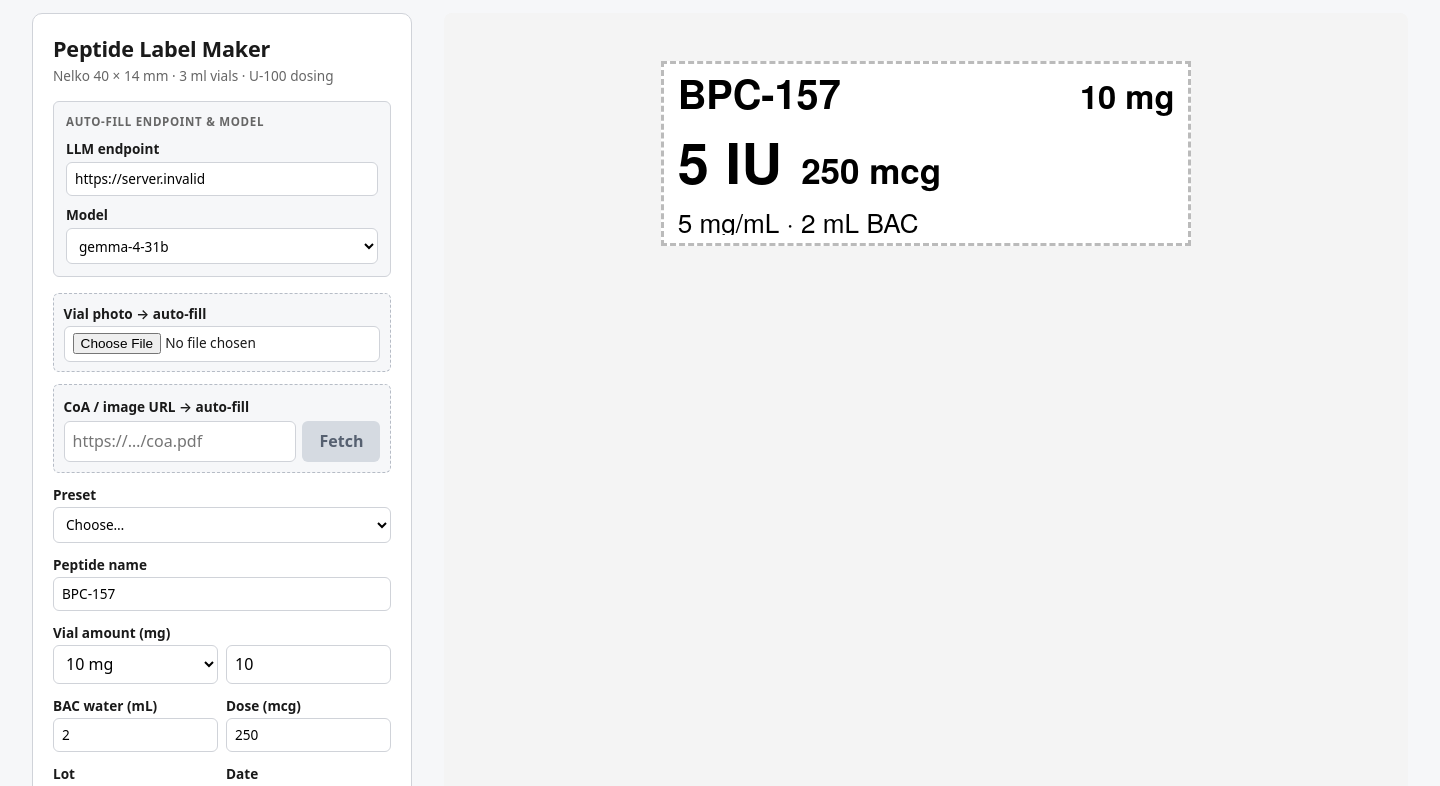
Test: App › blocks printing and surfaces an error when the name is empty
This screenshot has width=1440, height=786.
Clear the field labelled "Peptide name": (222, 594) [53,577,391,611]
(page scrolled)
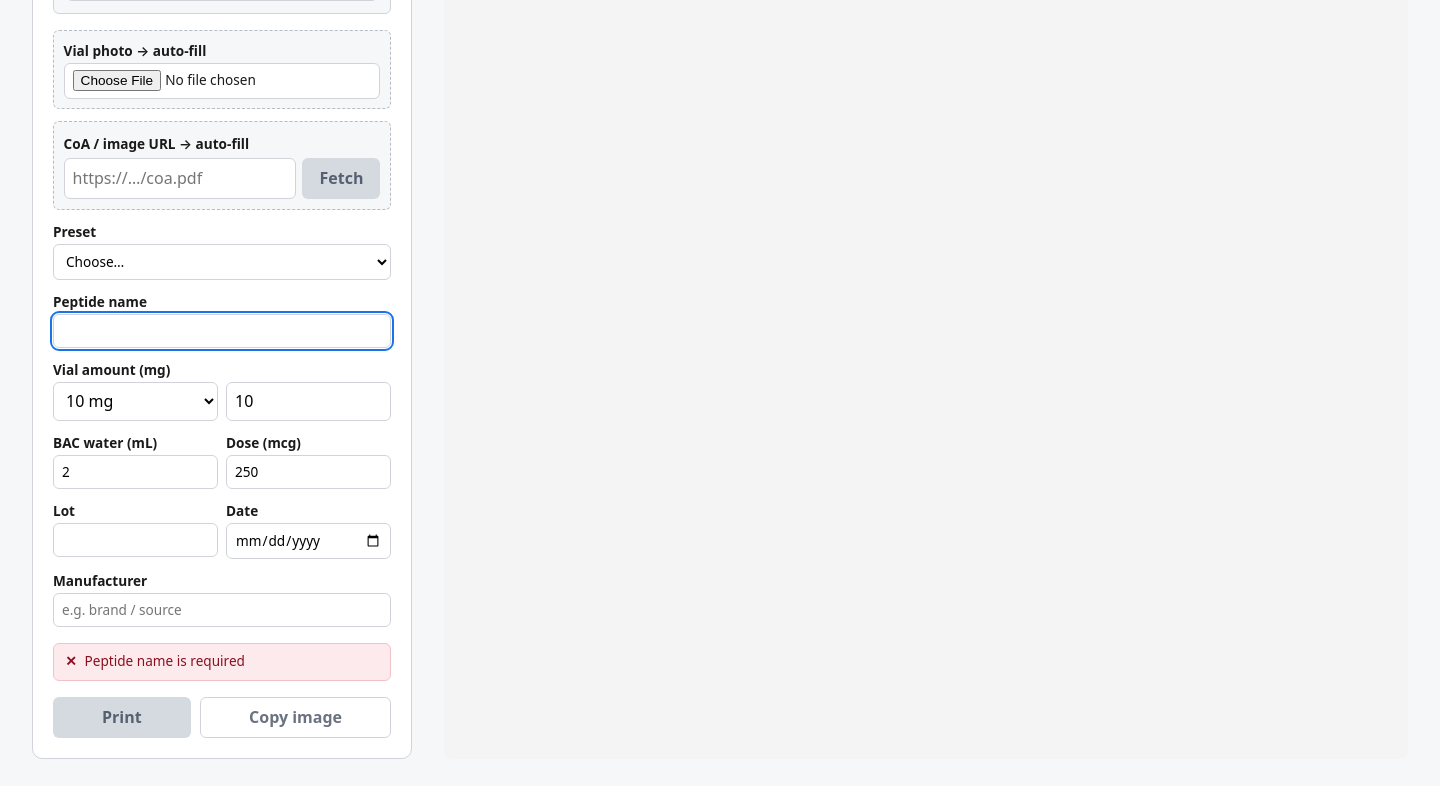
Check: the text "Peptide name is required" is shown, box [85,652,245,671]
Check: the button "Print" is disabled, box [53,697,190,738]
